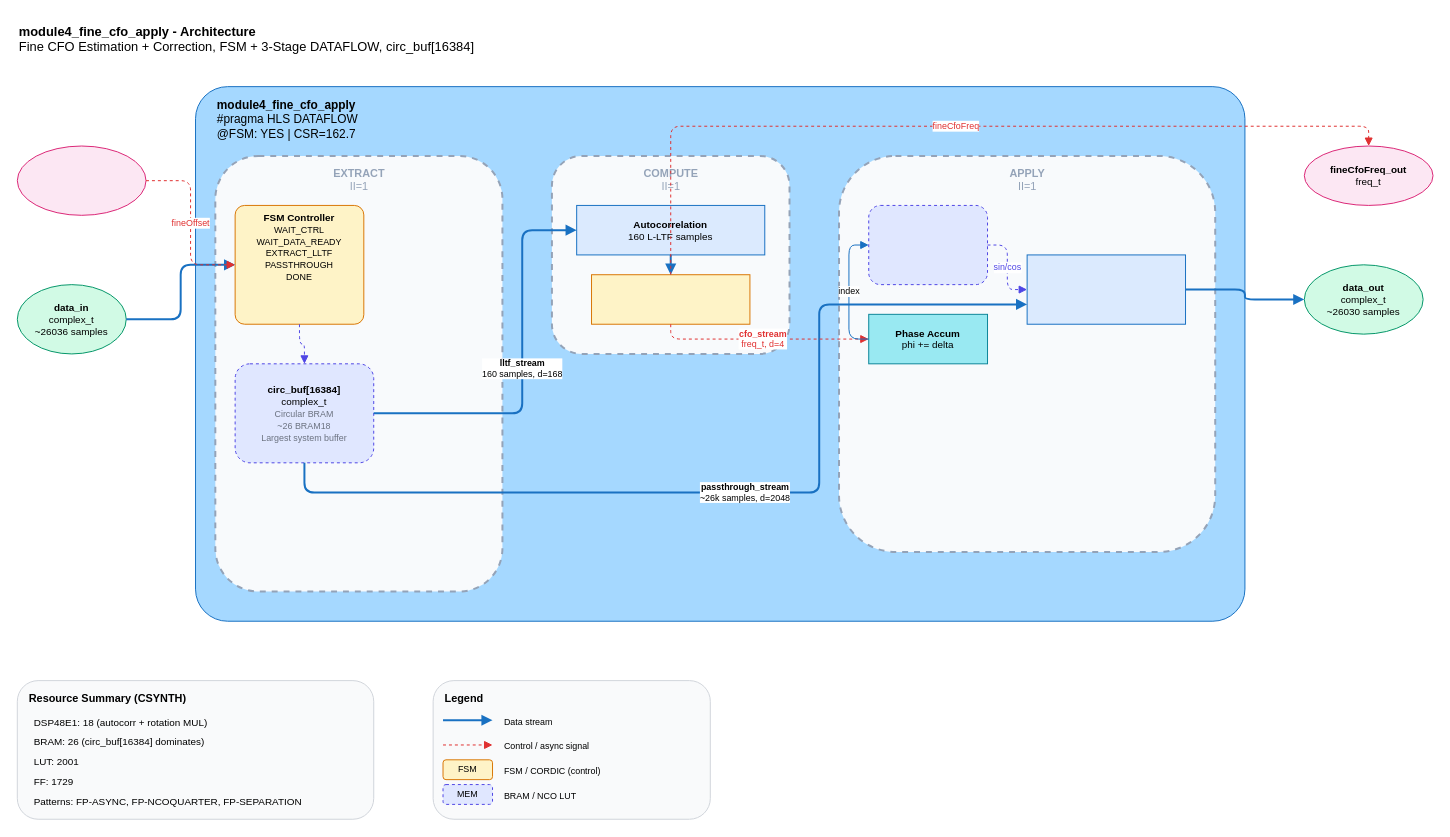
The diagram is 1450 pixels wide and 837 high, and some of its shapes have lost their labels. The shapes that lost their labels are listed below. From the top down, each one's box as (x1, y1, x2, y2) in pixels, then its label:
(16, 145, 146, 215): fineOffset_in index_t (async, ~cycle 7000)
(868, 204, 988, 285): NCO LUT sin/cos[1024] Quarter-wave 1 RAMB18
(591, 274, 750, 324): CORDIC atan2 CFO estimation
(1026, 254, 1186, 324): Complex MUL data * exp(-j*phi) CFO correction
